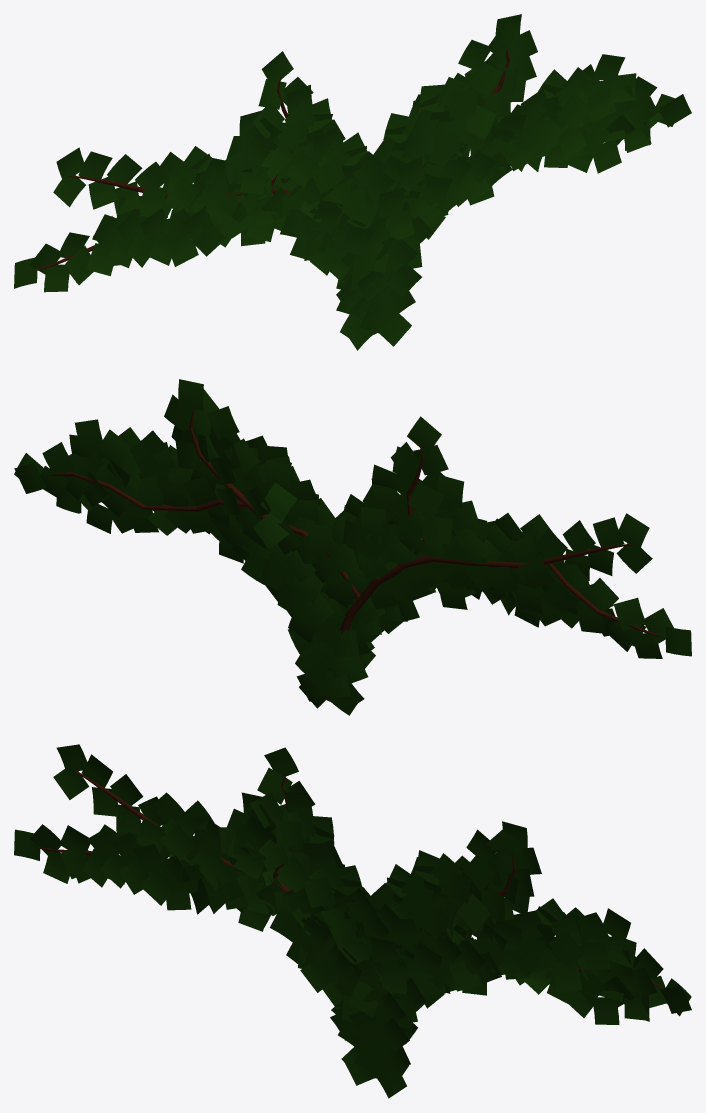
File: MSH_ClimbingVine.fbx
3 views of the same model, one above another, from view 1: azimuth 30°, elevation 25°; view 2: azimuth 150°, elevation 25°; view 3: azimuth 330°, elevation 25° (orthographic).
Visible parts, largest first — view 1: Tronc001; view 2: Tronc001; view 3: Tronc001.
Part boxes in pixels (<box>): Tronc001: <box>14,14,691,350</box>; Tronc001: <box>14,379,691,715</box>; Tronc001: <box>14,744,691,1098</box>.
Size of the model in its own units: 561 by 253 by 26.79.
